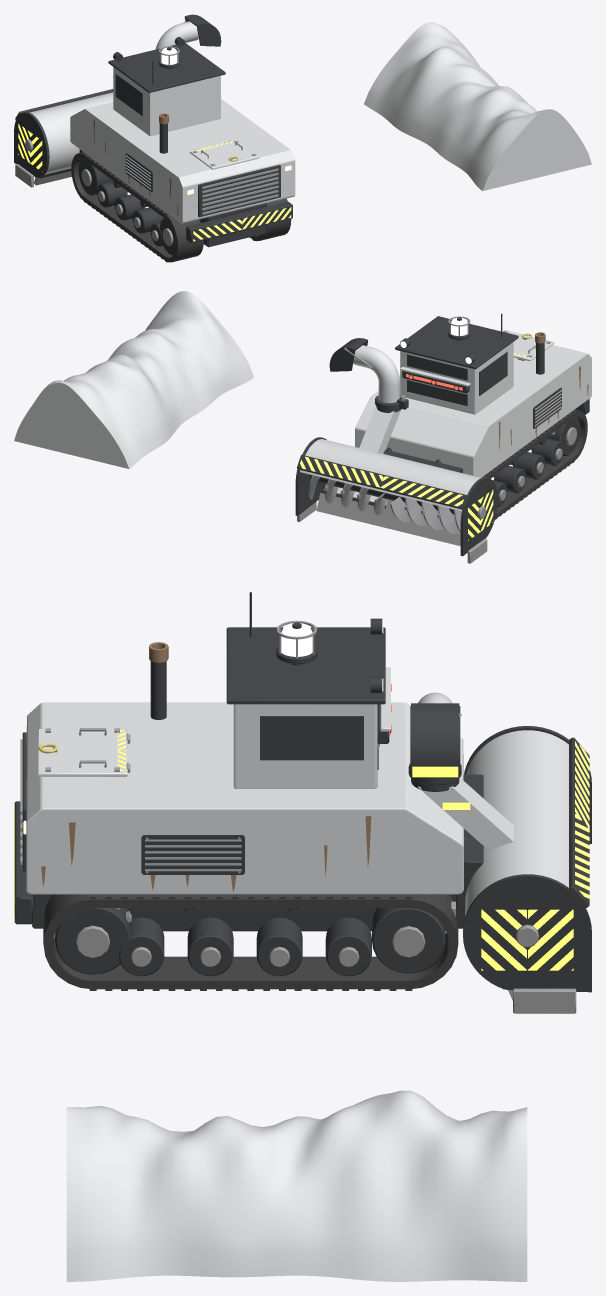
File: plough.glb
3 renders of one model, top to bottom at view 1: azimuth 30°, elevation 25°; view 2: azimuth 150°, elevation 25°; view 3: azimuth 270°, elevation 25°, orthographic. The views are drawn at different scales.
Visible parts, largest first — view 1: hull, bank, track_l, housing, chute, hatch, track_r, beacon; view 2: hull, bank, housing, track_l, auger, chute, eye, hatch, beacon; view 3: hull, bank, track_r, housing, chute, hatch, beacon.
Part boxes in pixels (box(x1,y1,x2,y2)): hull: box(70, 37, 295, 247); bank: box(364, 22, 591, 190); track_l: box(71, 152, 203, 262); housing: box(14, 89, 113, 187); chute: box(155, 14, 221, 49); hatch: box(189, 140, 259, 169); track_r: box(249, 198, 291, 241); beacon: box(158, 46, 179, 69); hull: box(355, 313, 591, 477); bank: box(14, 291, 254, 468); housing: box(295, 406, 497, 563); track_l: box(482, 409, 587, 519); auger: box(308, 474, 461, 534); chute: box(329, 338, 408, 409); eye: box(400, 367, 470, 393); hatch: box(503, 330, 554, 361); beacon: box(448, 316, 470, 340); hull: box(14, 592, 463, 928); bank: box(66, 1090, 527, 1281); track_r: box(43, 894, 458, 990); housing: box(411, 726, 591, 1013); chute: box(408, 692, 461, 785); hatch: box(37, 728, 127, 776); beacon: box(276, 620, 317, 665).
Size of what is drawn, in the model's own units: 8.67 by 3.05 by 5.02.
